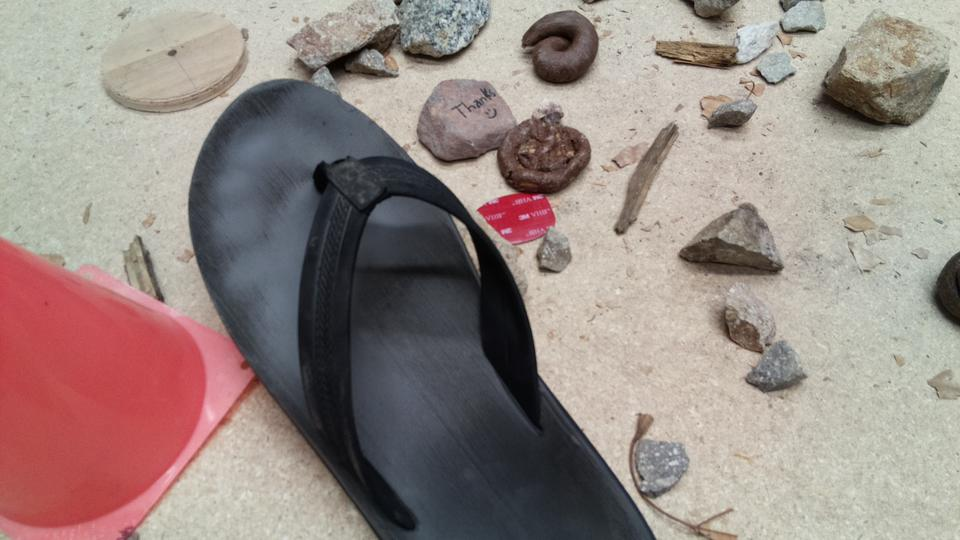poop: (497, 114, 590, 197), (521, 9, 599, 86)
